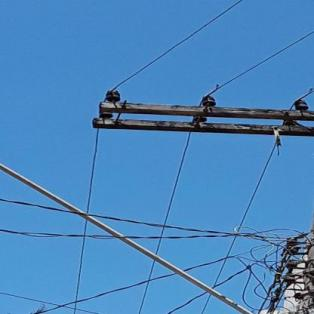Poste: (236, 103, 314, 314)
